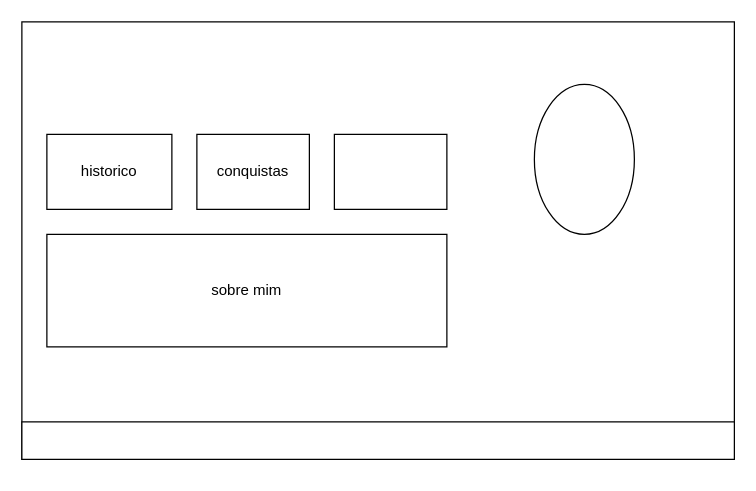
The diagram is 756 pixels wide and 491 high, and some of its shapes have lost their labels. The shapes that lost their labels are listed below. From the top down, each one's centre as x and y in pixels, then its label:
At [583,158]: "imagem".
At [377,440]: "contatos".
